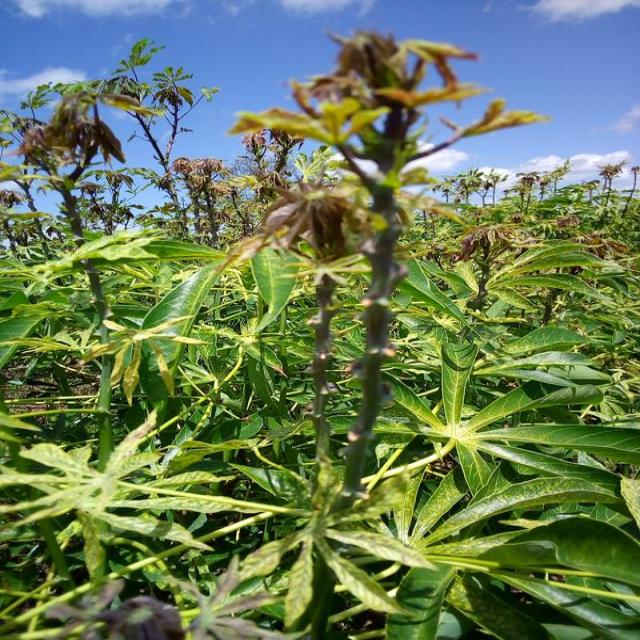cassava leaf: (0, 29, 638, 638), (250, 232, 300, 330), (439, 338, 478, 429)
